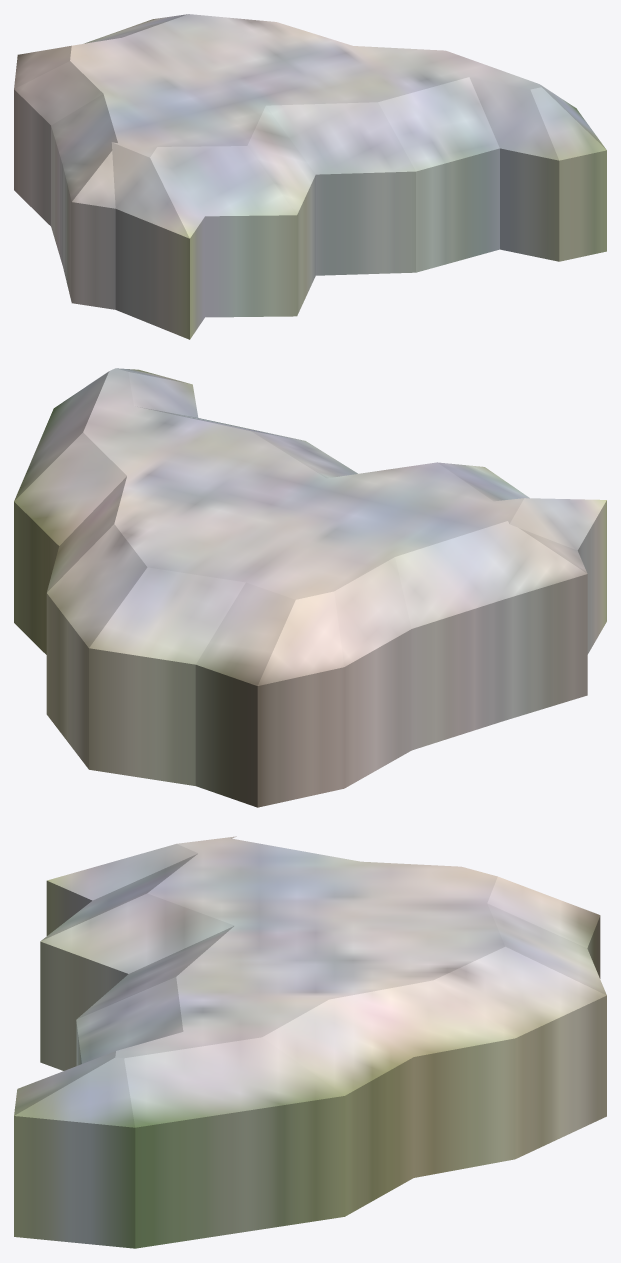
File: stone.37.fbx
The picture shows the model from 3 angles, top to bottom: view 1: azimuth 30°, elevation 25°; view 2: azimuth 150°, elevation 25°; view 3: azimuth 270°, elevation 25°; orthographic projection. The views are drawn at different scales.
Parts seen in each view (by area): view 1: stone.37; view 2: stone.37; view 3: stone.37.
Part boxes in pixels (<box>): stone.37: <box>14,14,606,339</box>; stone.37: <box>14,368,606,807</box>; stone.37: <box>14,836,606,1248</box>.
Bounding box in the file's own units: 34.81 × 9.74 × 31.5.
1 material, 1 textured.
